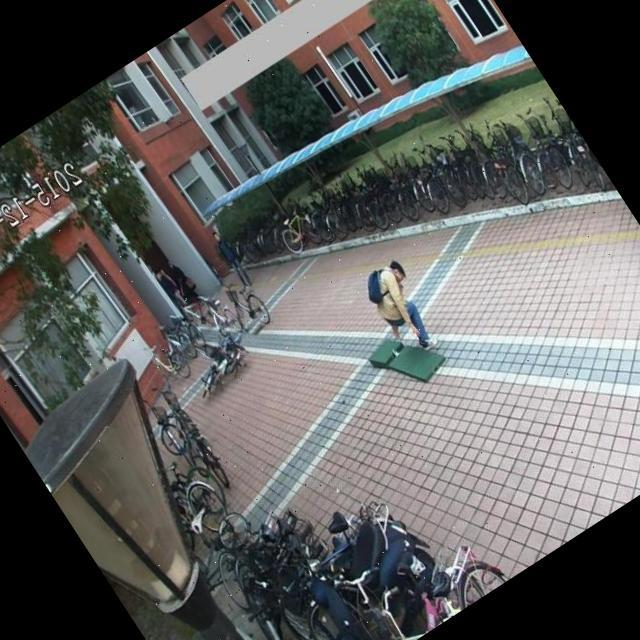person: (354, 249, 452, 363), (202, 224, 258, 297)
